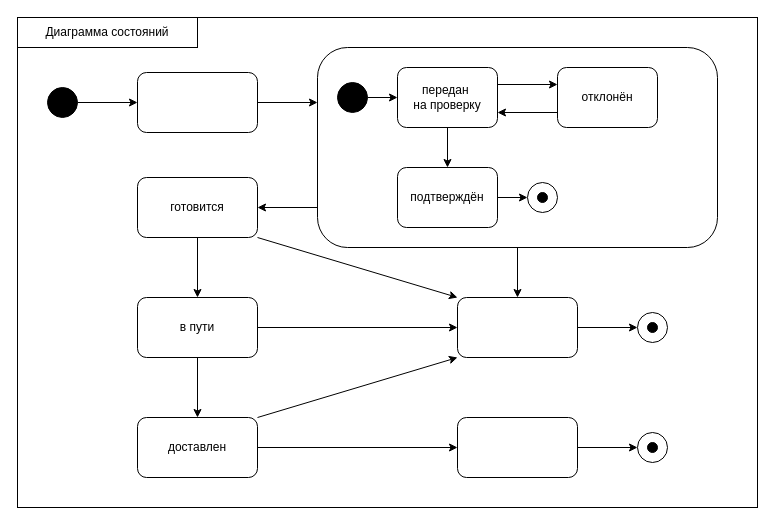
This 775x525 diagram has some shape labels left out. The shapes that lost their labels are listed below. From the top down, each one's centre as x and y in pixels, then its label:
At point (197, 102): "ожидание подтверждения".
At point (517, 327): "отменён".
At point (517, 447): "завершён".
